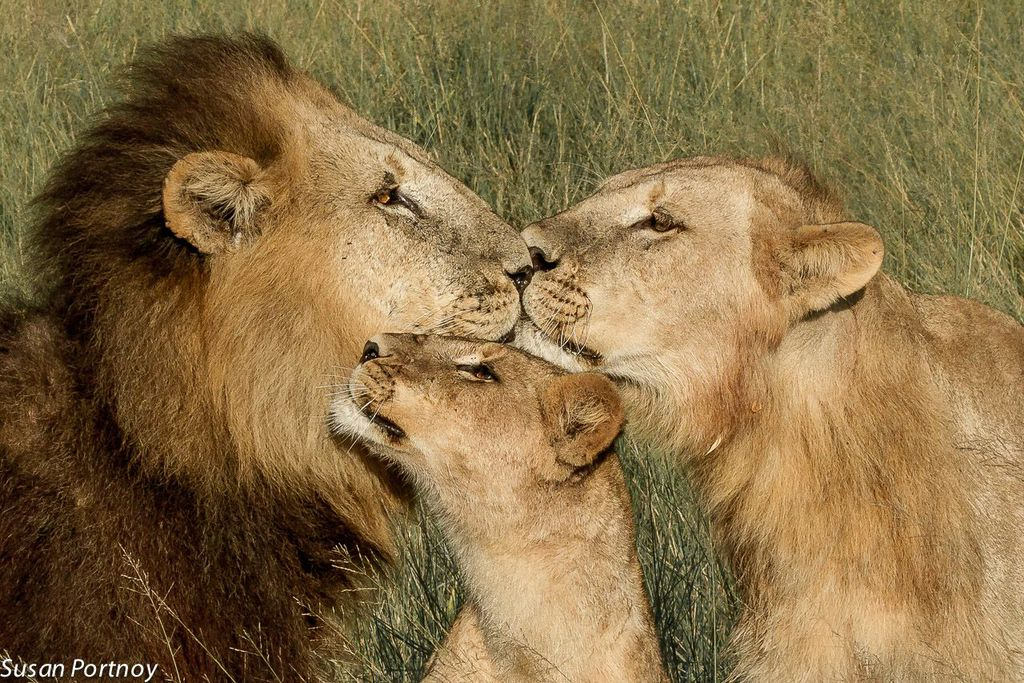lion: (1, 34, 537, 683), (513, 154, 1024, 680), (326, 334, 662, 683)
